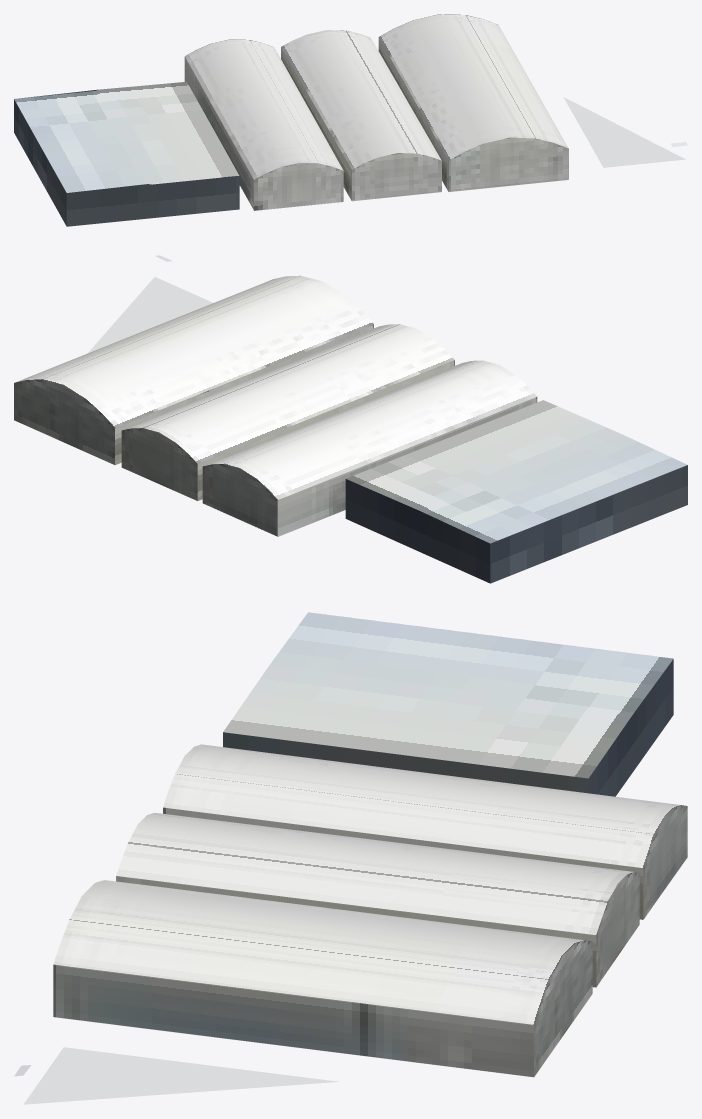
3 views of the same model, one above another, from view 1: azimuth 30°, elevation 25°; view 2: azimuth 150°, elevation 25°; view 3: azimuth 270°, elevation 25° (orthographic). The views are drawn at different scales.
Visible parts, largest first — view 1: Buildings_建物パビリオン; view 2: Buildings_建物パビリオン; view 3: Buildings_建物パビリオン.
Boxes of the visible parts, box(x1,y1,x2,y2) form: Buildings_建物パビリオン: box(14, 14, 687, 226); Buildings_建物パビリオン: box(14, 255, 687, 583); Buildings_建物パビリオン: box(14, 612, 687, 1104).
Bounding box in the file's own units: 98.75 × 8.55 × 64.65.
5 materials, 4 textured.
